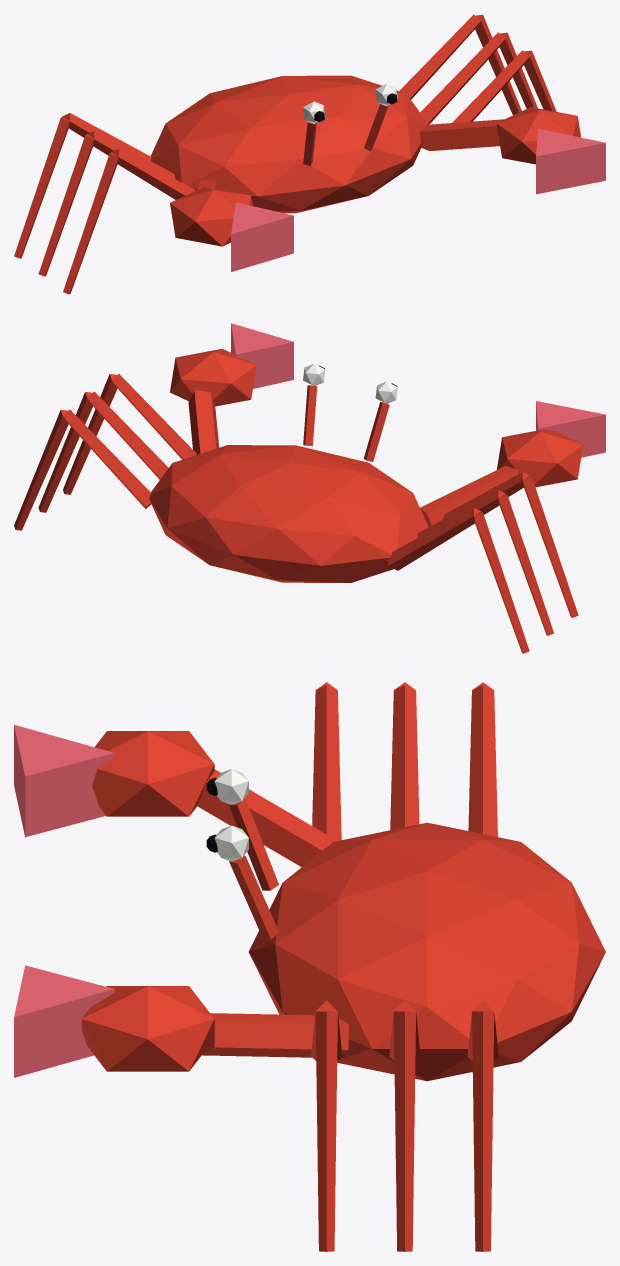
File: crab.glb
3 renders of one model, top to bottom at view 1: azimuth 30°, elevation 25°; view 2: azimuth 150°, elevation 25°; view 3: azimuth 270°, elevation 25°, orthographic. The views are drawn at different scales.
Visible parts, largest first — view 1: crab; view 2: crab; view 3: crab.
Boxes of the visible parts, left/top/right/bottom form: crab: left=14, top=14, right=605, bottom=294; crab: left=14, top=323, right=605, bottom=653; crab: left=14, top=682, right=605, bottom=1251.
Bounding box in the file's own units: 0.853 × 0.2556 × 0.53.
